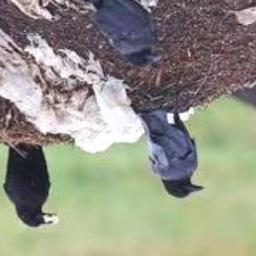Crow: (138, 109, 206, 199), (74, 0, 162, 68), (4, 144, 57, 228)
